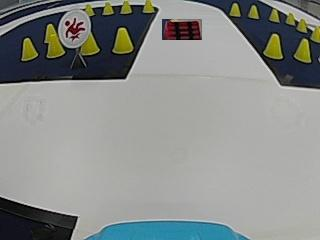cone: (112, 26, 133, 54), (263, 32, 284, 60), (46, 33, 63, 58), (81, 34, 100, 56), (294, 38, 310, 64), (20, 37, 37, 61), (228, 2, 241, 17), (247, 3, 259, 19), (102, 1, 114, 16), (120, 0, 132, 15), (142, 0, 154, 14), (310, 25, 319, 43), (269, 8, 279, 23), (296, 17, 306, 32), (84, 3, 95, 16), (286, 11, 294, 25)
tumble: (60, 12, 88, 44)
